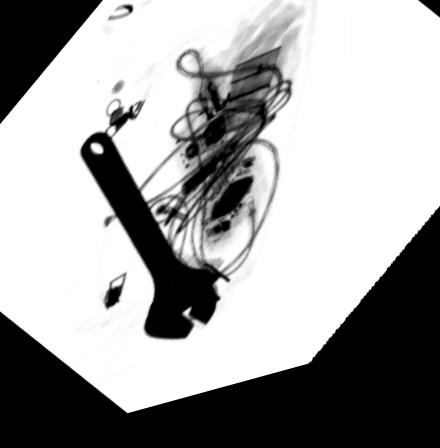Wrench: (76, 133, 222, 350)
